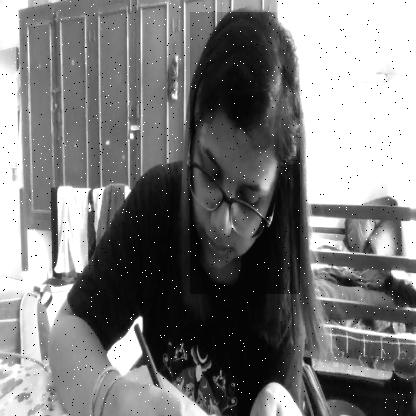Distracted: (190, 12, 300, 294)
